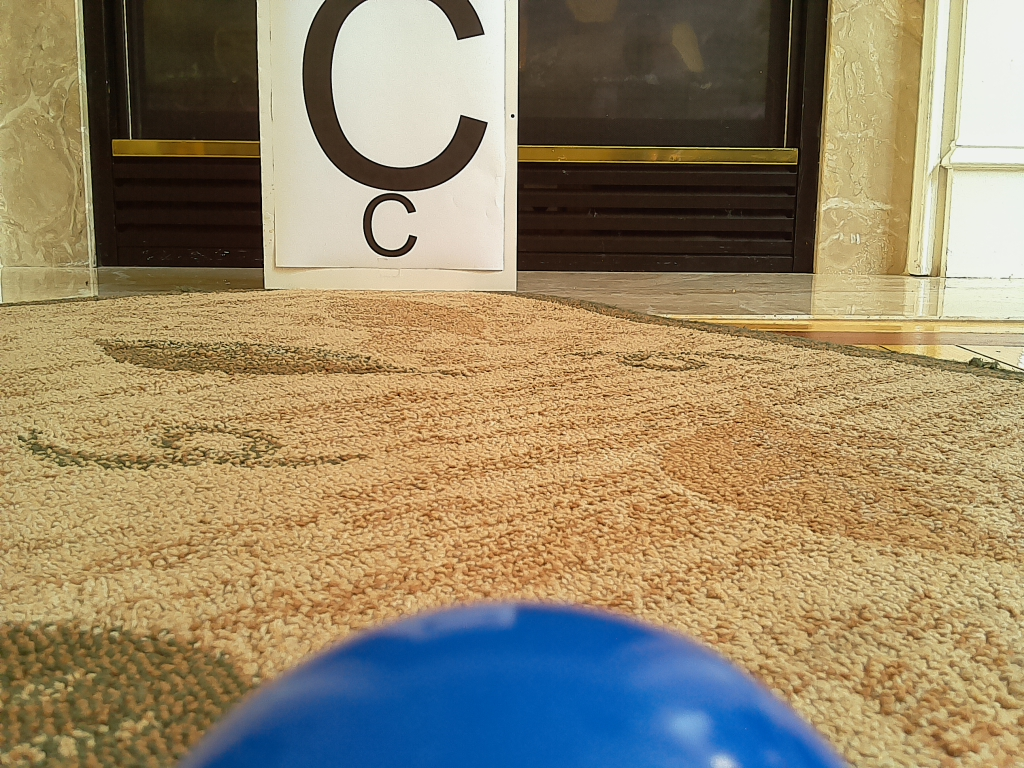letter: (302, 1, 486, 191)
